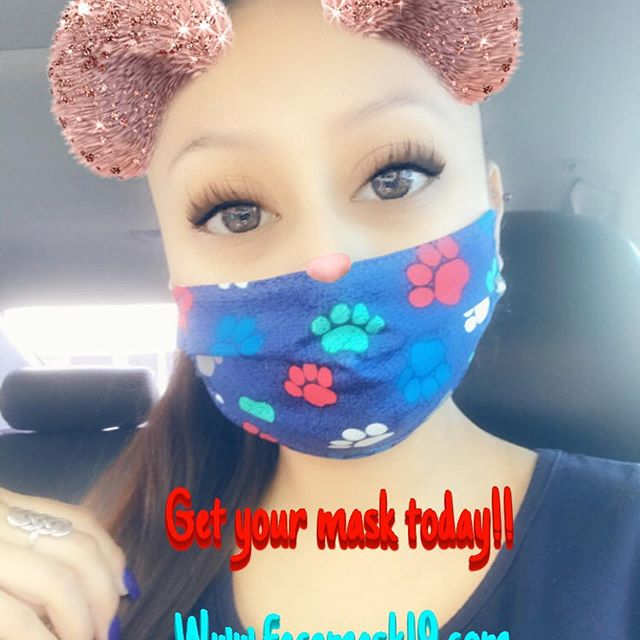homemade: (162, 256, 523, 454)
